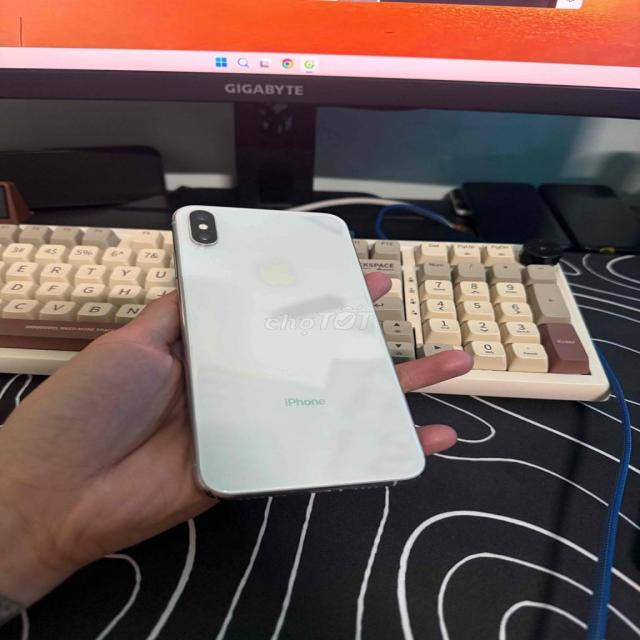gen_x_xs: (163, 200, 434, 508)
